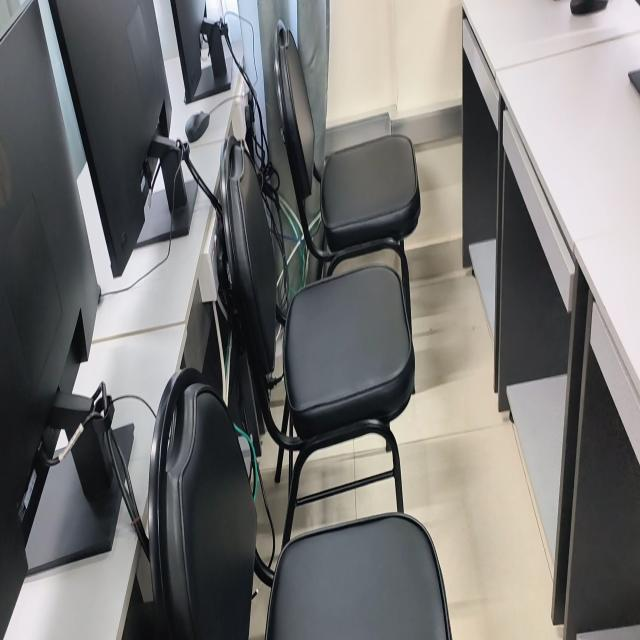Chair: (149, 364, 451, 639), (220, 135, 415, 543), (274, 21, 420, 316)
Monitor: (0, 0, 121, 639), (48, 0, 197, 277), (170, 0, 231, 103)
Mouse: (185, 110, 210, 143), (571, 0, 608, 15)
